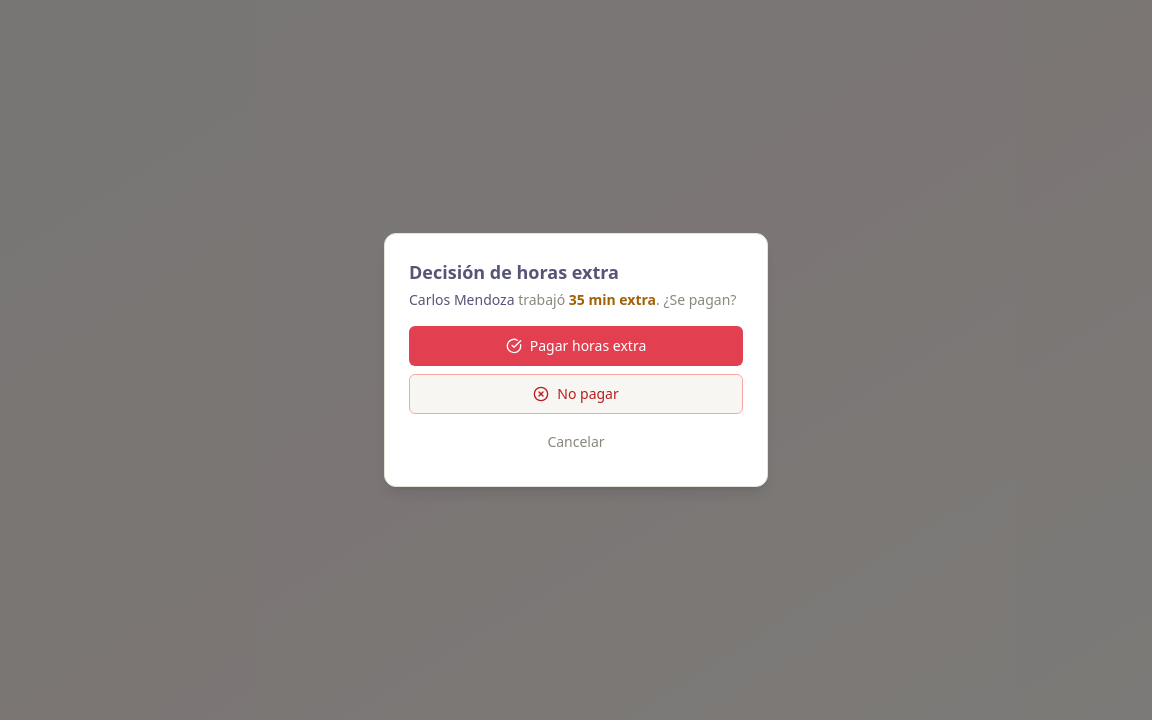
Test: OvertimeDecisionDialog — actions › requires agreed_rate when AGREED_RATE method is selected
The width and height of the screenshot is (1152, 720).
Step 1. Click the button with test id "btn-authorize-overtime" → [576, 346], box [409,326,743,366]
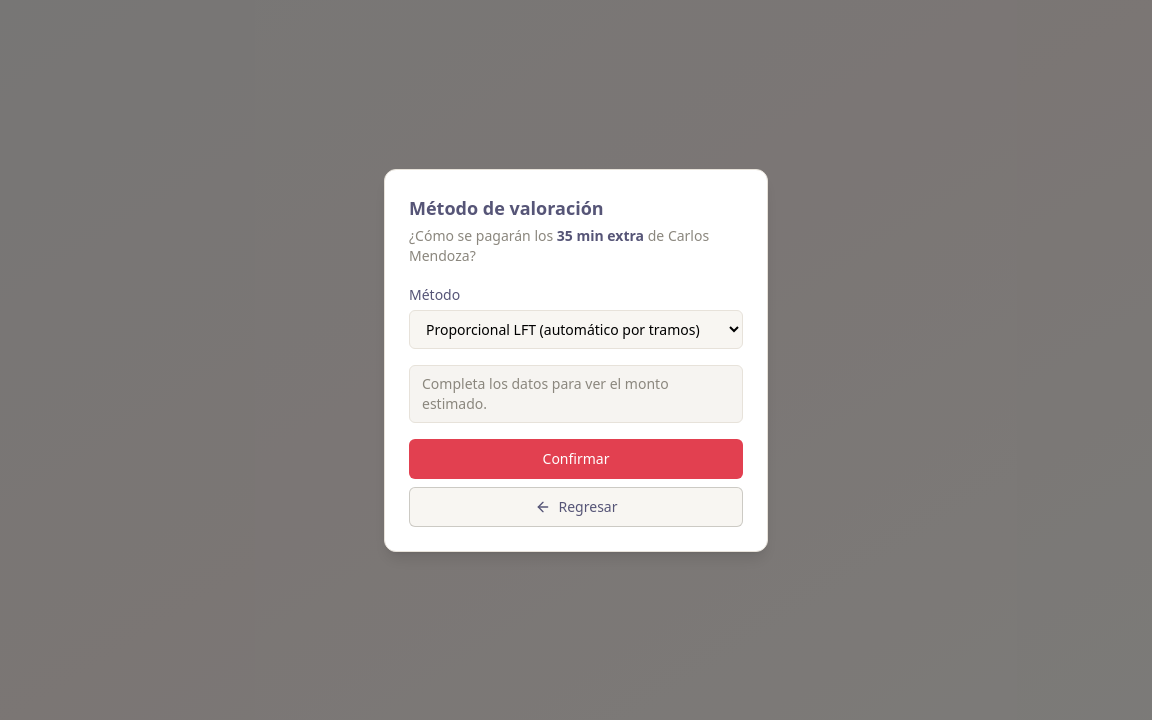
Step 2. Select "Tarifa fija pactada" in the dropdown labelled "Método" → [576, 329], box [409,310,743,348]
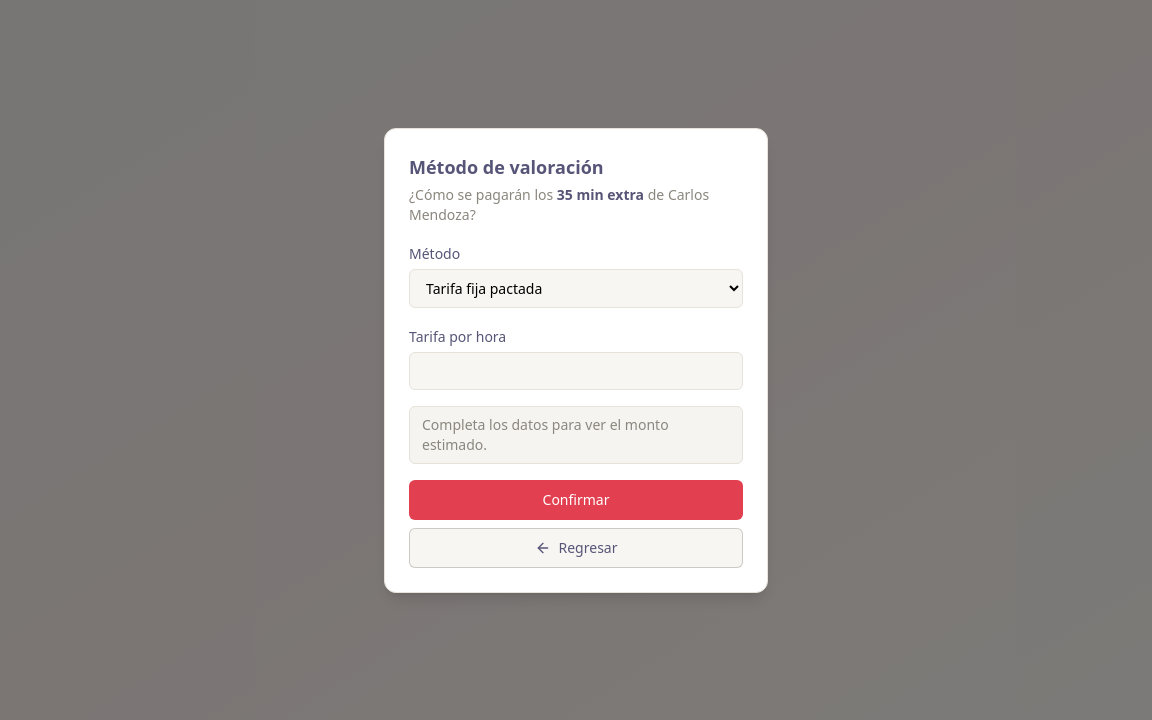
Step 3. Click the button with test id "btn-confirm-valuation" → [576, 500], box [409,480,743,520]
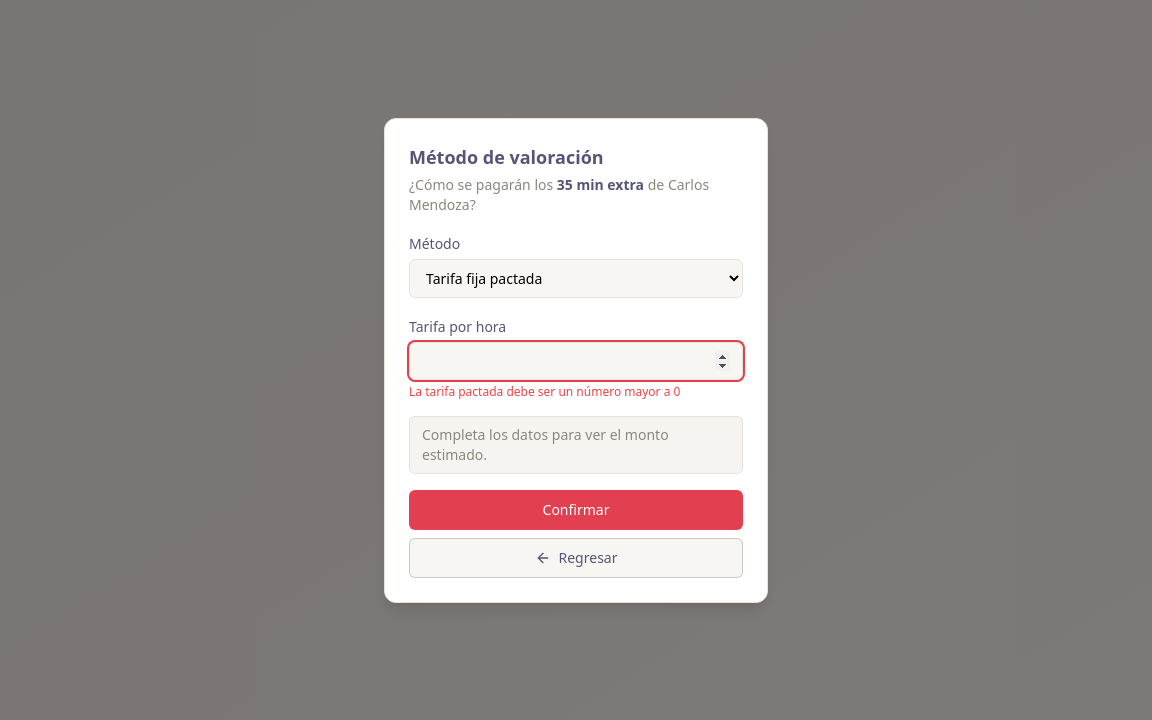
Now the text "La tarifa pactada debe ser un número mayor a 0" is shown, box [409,382,680,400]
